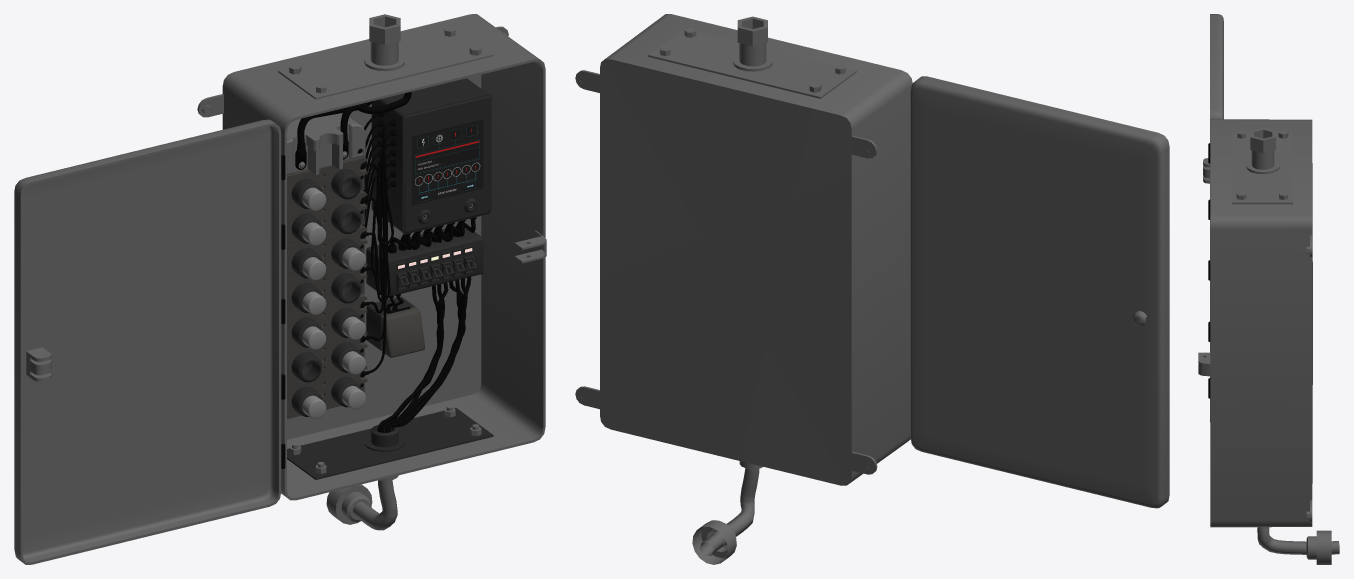
The model's file is Contatore.fbx.
3 views of the same model, side by side, from view 1: azimuth 30°, elevation 25°; view 2: azimuth 150°, elevation 25°; view 3: azimuth 270°, elevation 25° (orthographic). The views are drawn at different scales.
Visible parts, largest first — view 1: Porta contatore, Contatore off, Contatore on; view 2: Contatore on, Porta contatore, Contatore off; view 3: Contatore on, Contatore off, Porta contatore.
Part boxes in pixels (bbox=[...]): Porta contatore: bbox=[14, 119, 281, 564]; Contatore off: bbox=[197, 16, 546, 530]; Contatore on: bbox=[198, 14, 546, 527]; Contatore on: bbox=[575, 14, 912, 563]; Porta contatore: bbox=[910, 76, 1169, 508]; Contatore off: bbox=[579, 28, 877, 564]; Contatore on: bbox=[1198, 119, 1339, 564]; Contatore off: bbox=[1198, 128, 1331, 564]; Porta contatore: bbox=[1203, 14, 1223, 422].
Size of the model in its own units: 76.08 by 69.62 by 20.84.
